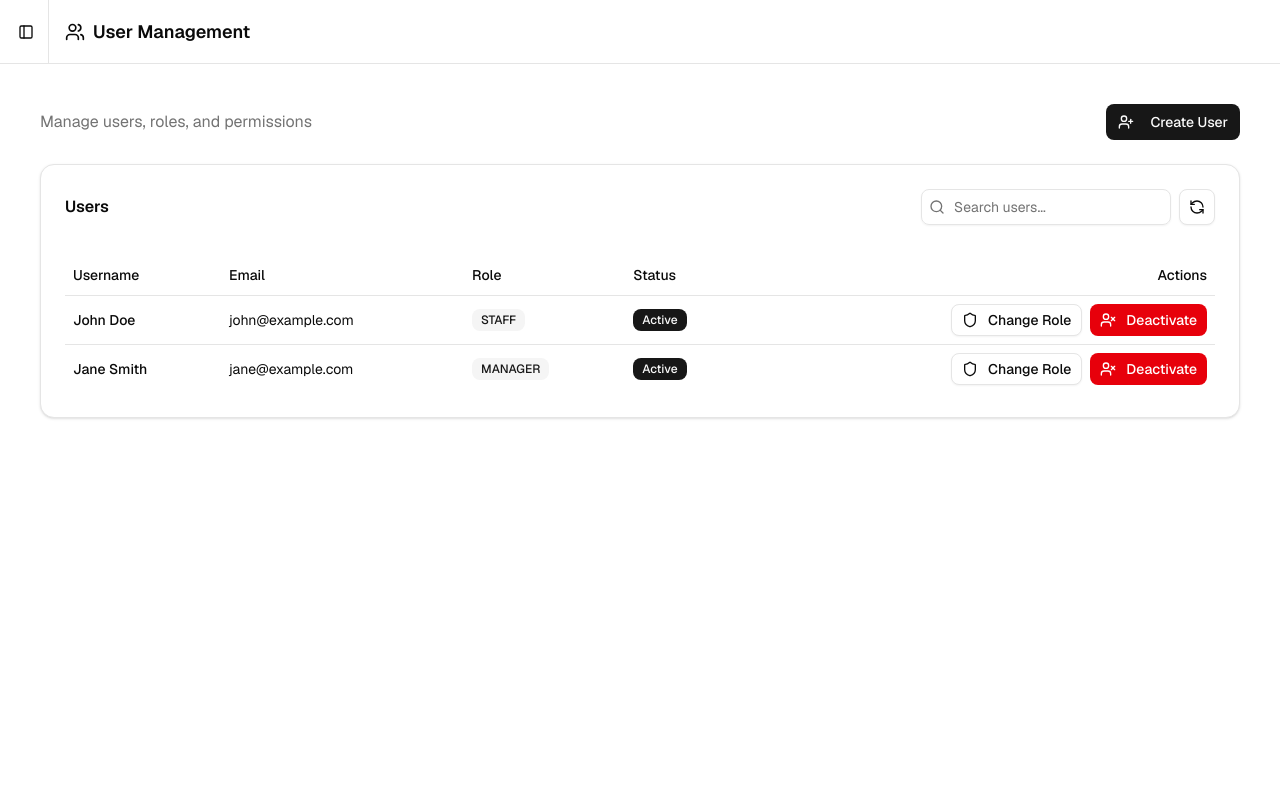
Test: UserManagementPage › Create User Dialog › closes dialog after successful user creation
Click the button "Create User".
click(1173, 122)  # box x1=1106 y1=104 x2=1240 y2=140
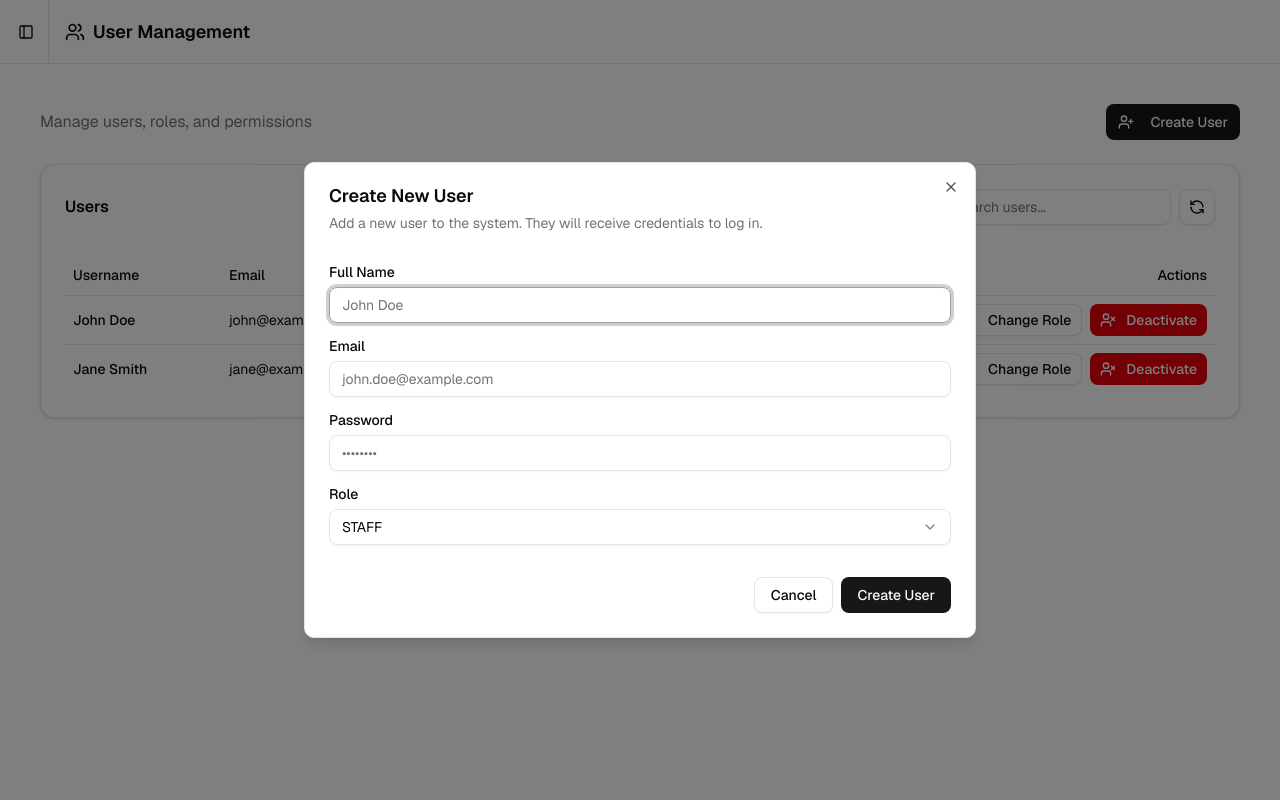
Expected: the heading "Create New User" is shown, x1=329 y1=184 x2=474 y2=207
Type "New User" into the field labelled "Full Name".
click(640, 305); type("New User")  # box x1=329 y1=287 x2=951 y2=323
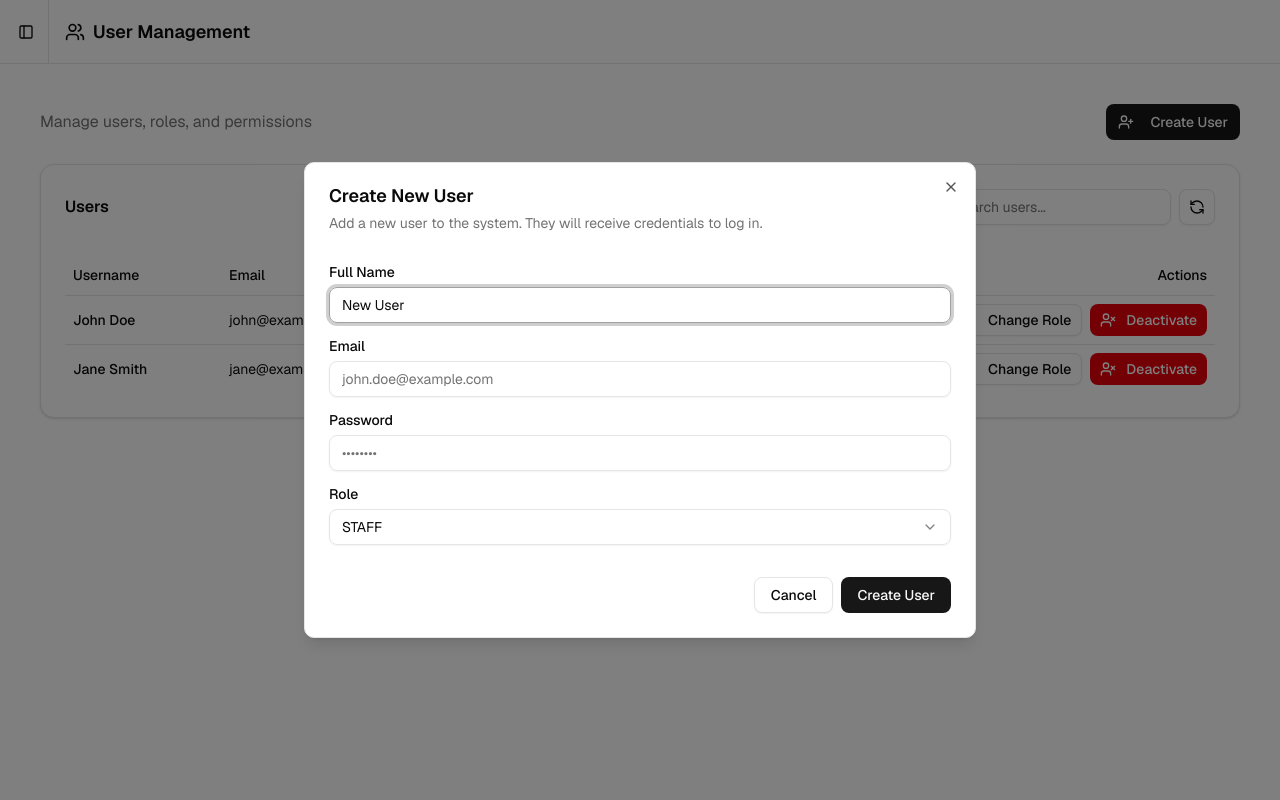
Type "newuser@example.com" into the field labelled "Email".
click(640, 379); type("newuser@example.com")  # box x1=329 y1=361 x2=951 y2=397
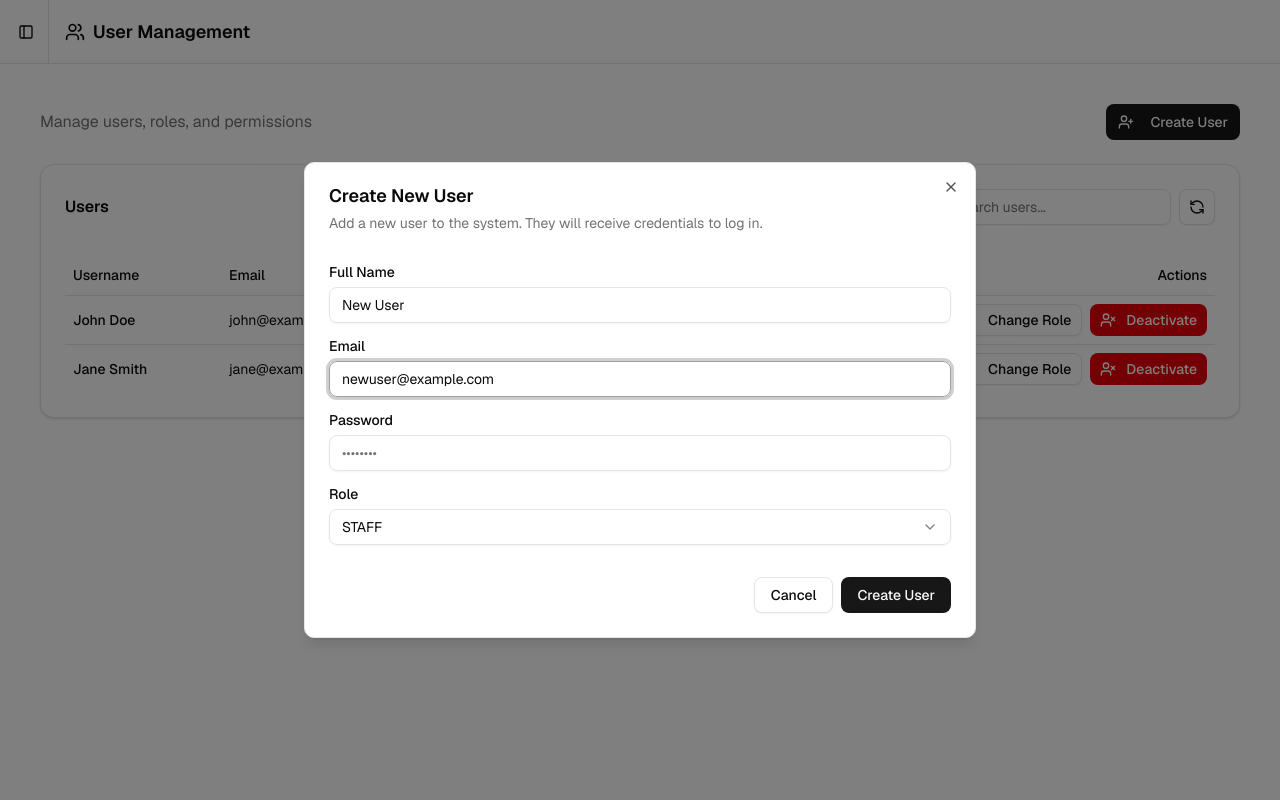
Type "password123" into the password field labelled "Password".
click(640, 453); type("password123")  # box x1=329 y1=435 x2=951 y2=471
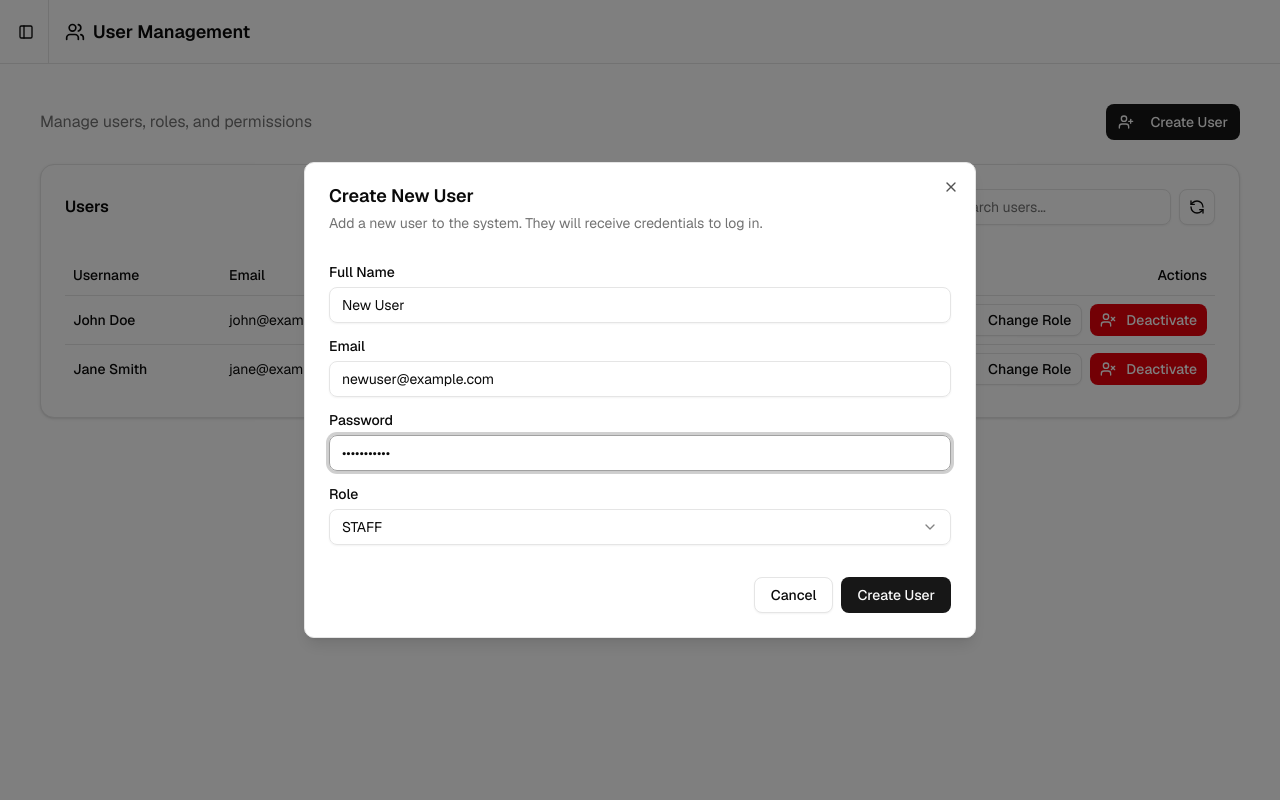
Click the button "Create User".
click(896, 595)  # box x1=841 y1=577 x2=951 y2=613
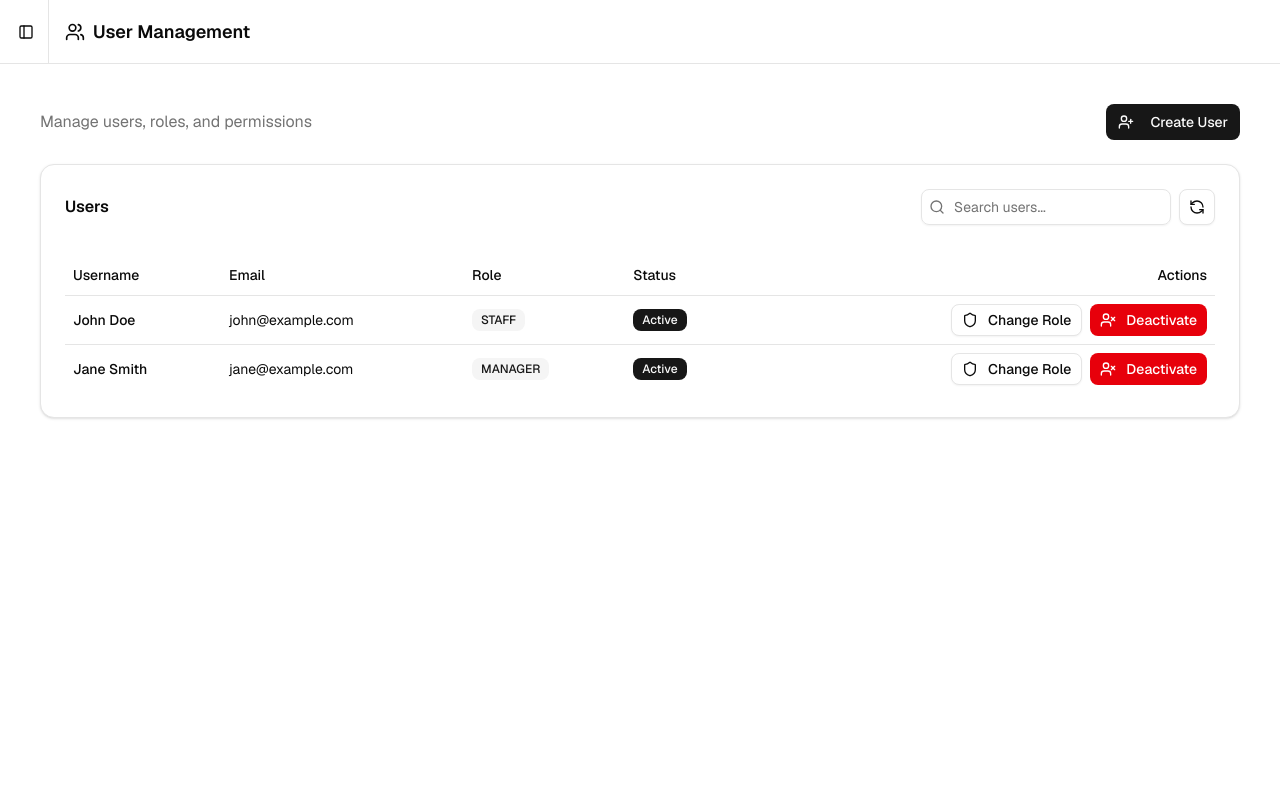
Expected: the heading "Create New User" is gone
